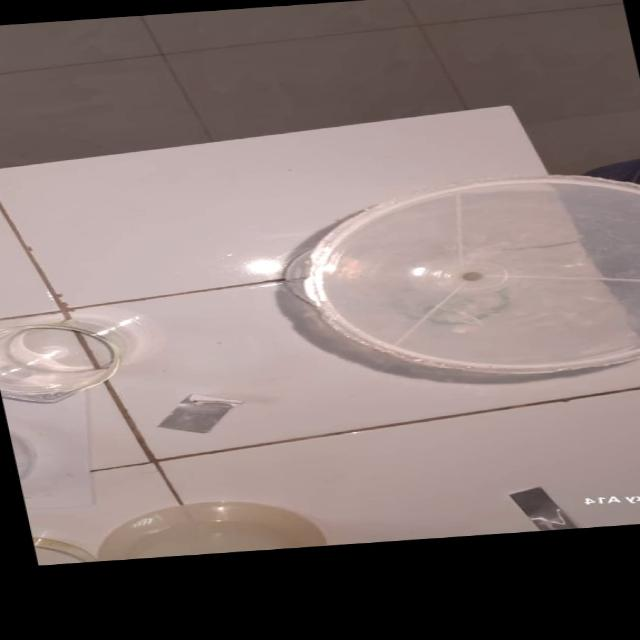Funnel: (280, 166, 640, 396)
